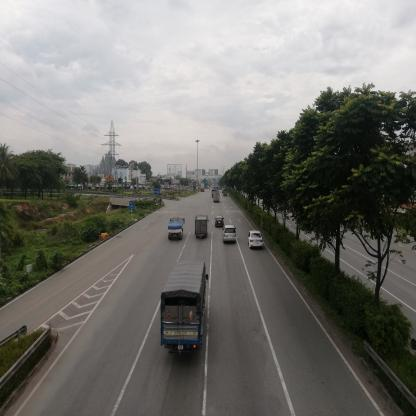car: (224, 226, 237, 244), (250, 231, 263, 248), (216, 218, 224, 226)
truck: (166, 261, 207, 351), (169, 218, 186, 241), (197, 215, 208, 239), (214, 192, 221, 202)
